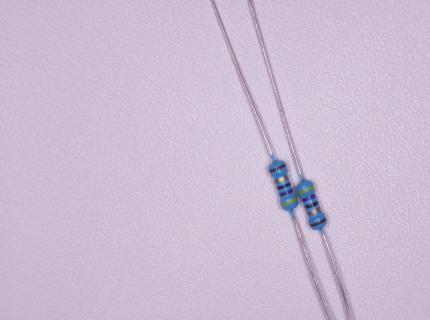Black band: (304, 200, 319, 209), (277, 182, 291, 190)
Brown band: (268, 163, 287, 173), (309, 217, 327, 227)
Gold band: (274, 174, 289, 184), (307, 207, 321, 216)
Violet band: (279, 188, 294, 197), (302, 193, 316, 202)
Yellow band: (280, 196, 298, 206), (297, 184, 314, 194)
